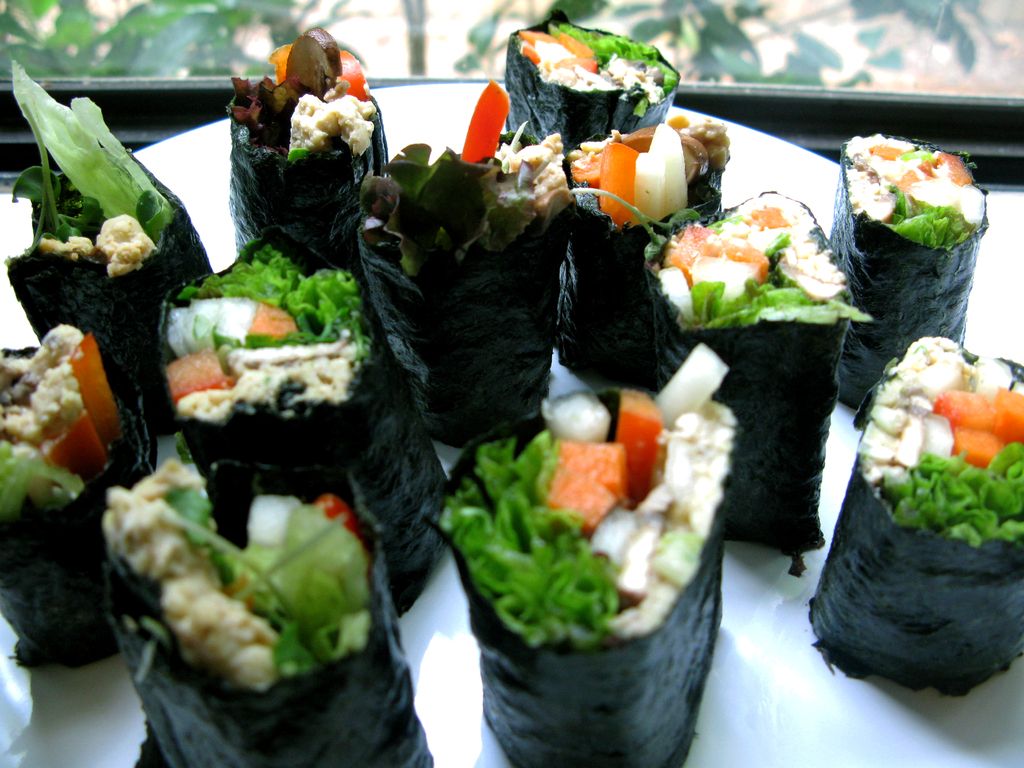sushi: (0, 8, 1016, 767), (833, 338, 1022, 666)
